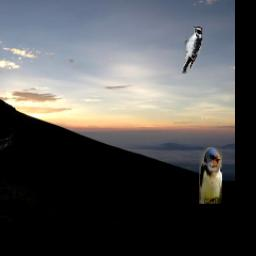Swallow: (200, 148, 223, 205)
Woodpecker: (182, 25, 203, 74)
